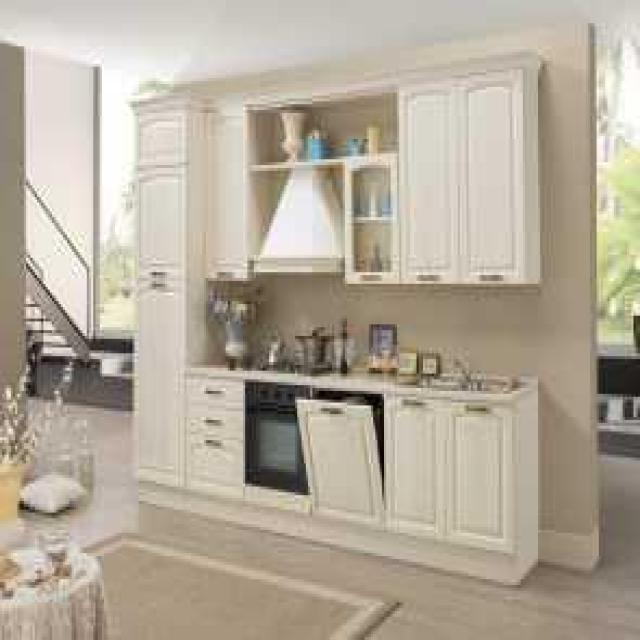dishwasher: (293, 388, 390, 539)
